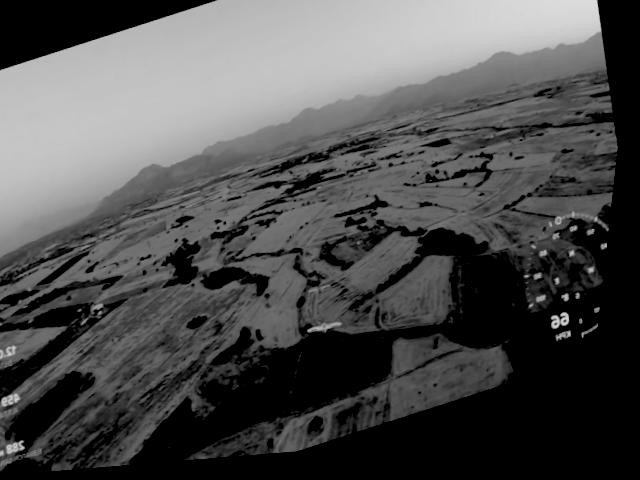hedef: (308, 317, 357, 359)
